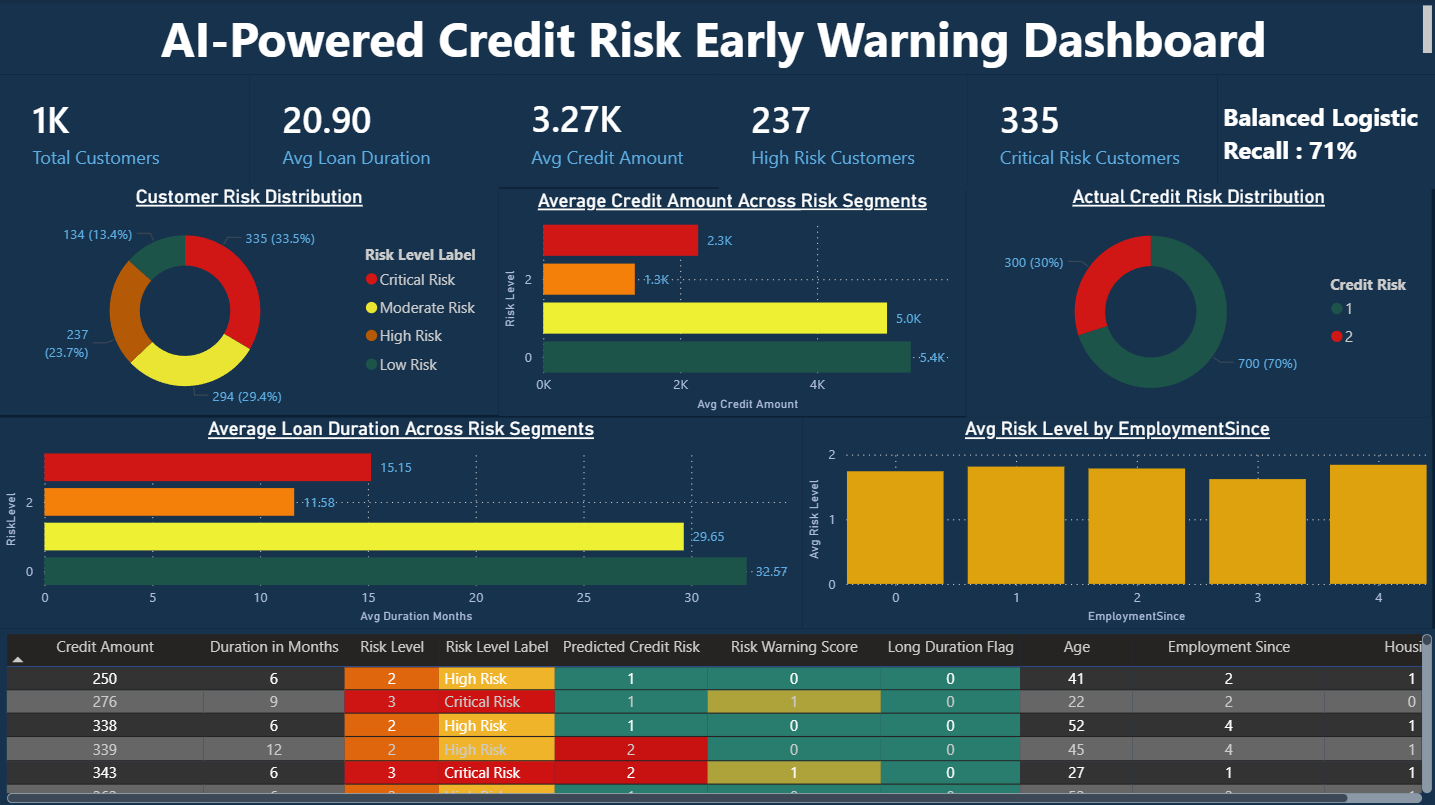

Layout of this report page (visuals, bound fields, positions):
{"tool":"powerbi","page":{"name":"Page 1","canvas":[1280,720],"ordinal":0},"visuals":[{"type":"cardVisual","fields":{"Data":["Avg(final_credit_risk_dataset.CreditAmount)"]},"box":[444,66.4,222,100.1],"z":0},{"type":"cardVisual","fields":{"Data":["Avg(final_credit_risk_dataset.DurationMonths)"]},"box":[222.5,66.2,221.2,101.2],"z":1000},{"type":"cardVisual","fields":{"Data":["CountNonNull(final_credit_risk_dataset.RiskLevel)"]},"box":[640,66.2,221.2,101.2],"z":2000},{"type":"cardVisual","fields":{"Data":["CountNonNull(final_credit_risk_dataset.RiskLevel)"]},"box":[861.2,66.2,222.5,101.2],"z":3000},{"type":"textbox","box":[1083.8,66.2,196.2,101.2],"z":4000},{"type":"cardVisual","fields":{"Data":["CountNonNull(final_credit_risk_dataset.CreditRisk)"]},"box":[0,66.2,222.5,101.2],"z":5000},{"type":"donutChart","title":"Customer Risk Distribution","fields":{"Y":["CountNonNull(final_credit_risk_dataset.CreditRisk)"],"Category":["final_credit_risk_dataset.Risk Level Label"]},"box":[0,165.3,444,205.1],"z":6000},{"type":"donutChart","title":"Actual Credit Risk Distribution","fields":{"Category":["final_credit_risk_dataset.CreditRisk"],"Y":["CountNonNull(final_credit_risk_dataset.CreditRisk)"]},"box":[860.5,164.8,414.1,207.1],"z":7000},{"type":"clusteredBarChart","title":"Average Credit Amount Across Risk Segments","fields":{"Category":["final_credit_risk_dataset.RiskLevel"],"Y":["Avg(final_credit_risk_dataset.CreditAmount)"]},"box":[444,167.7,416.2,202.7],"z":8000},{"type":"clusteredBarChart","title":"Average Loan Duration Across Risk Segments","fields":{"Y":["Avg(final_credit_risk_dataset.DurationMonths)"],"Category":["final_credit_risk_dataset.RiskLevel"]},"box":[0,371.6,714.2,188.2],"z":9000},{"type":"columnChart","fields":{"Category":["final_credit_risk_dataset.EmploymentSince"],"Y":["Avg(final_credit_risk_dataset.RiskLevel)"]},"box":[714.2,371.6,561,188.2],"z":10000},{"type":"textbox","box":[0,0,1280,66.2],"z":11000},{"type":"tableEx","fields":{"Values":["final_credit_risk_dataset.CreditAmount","final_credit_risk_dataset.DurationMonths","final_credit_risk_dataset.RiskLevel","final_credit_risk_dataset.Risk Level Label","final_credit_risk_dataset.PredictedCreditRisk","final_credit_risk_dataset.RiskWarningScore","final_credit_risk_dataset.LongDurationFlag","final_credit_risk_dataset.Age","final_credit_risk_dataset.EmploymentSince","final_credit_risk_dataset.Housing"]},"box":[0,560,1280,160],"z":12000}]}

Visuals, with their boxes in screenshot pixels (x1, y1, x2, y2), scaled from the page's 1280x720 canvas onto the 1435x805 screenshot:
cardVisual - Avg(final_credit_risk_dataset.CreditAmount): x1=498, y1=74, x2=747, y2=186
cardVisual - Avg(final_credit_risk_dataset.DurationMonths): x1=249, y1=74, x2=497, y2=187
cardVisual - CountNonNull(final_credit_risk_dataset.RiskLevel): x1=718, y1=74, x2=965, y2=187
cardVisual - CountNonNull(final_credit_risk_dataset.RiskLevel): x1=965, y1=74, x2=1215, y2=187
textbox: x1=1215, y1=74, x2=1434, y2=187
cardVisual - CountNonNull(final_credit_risk_dataset.CreditRisk): x1=0, y1=74, x2=249, y2=187
"Customer Risk Distribution" donutChart: x1=0, y1=185, x2=498, y2=414
"Actual Credit Risk Distribution" donutChart: x1=965, y1=184, x2=1429, y2=416
"Average Credit Amount Across Risk Segments" clusteredBarChart: x1=498, y1=187, x2=964, y2=414
"Average Loan Duration Across Risk Segments" clusteredBarChart: x1=0, y1=415, x2=801, y2=626
columnChart - final_credit_risk_dataset.EmploymentSince x Avg(final_credit_risk_dataset.RiskLevel): x1=801, y1=415, x2=1430, y2=626
textbox: x1=0, y1=0, x2=1434, y2=74
tableEx - final_credit_risk_dataset.CreditAmount x final_credit_risk_dataset.DurationMonths: x1=0, y1=626, x2=1434, y2=804
